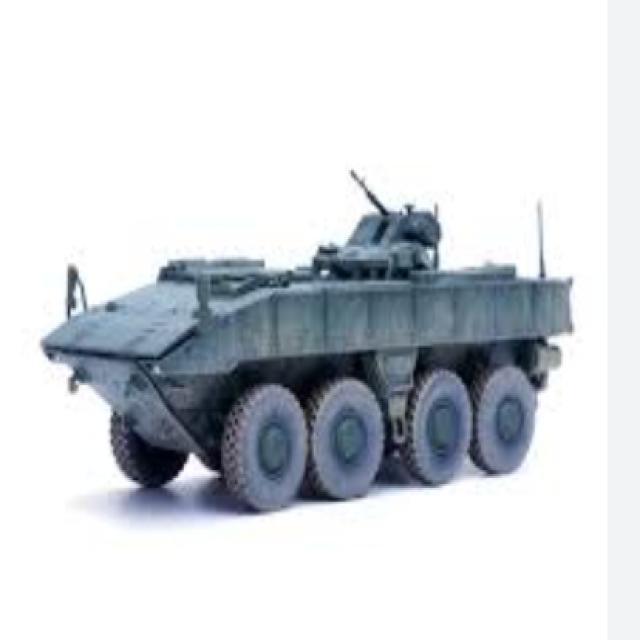MIL_APC: (43, 215, 582, 490)
